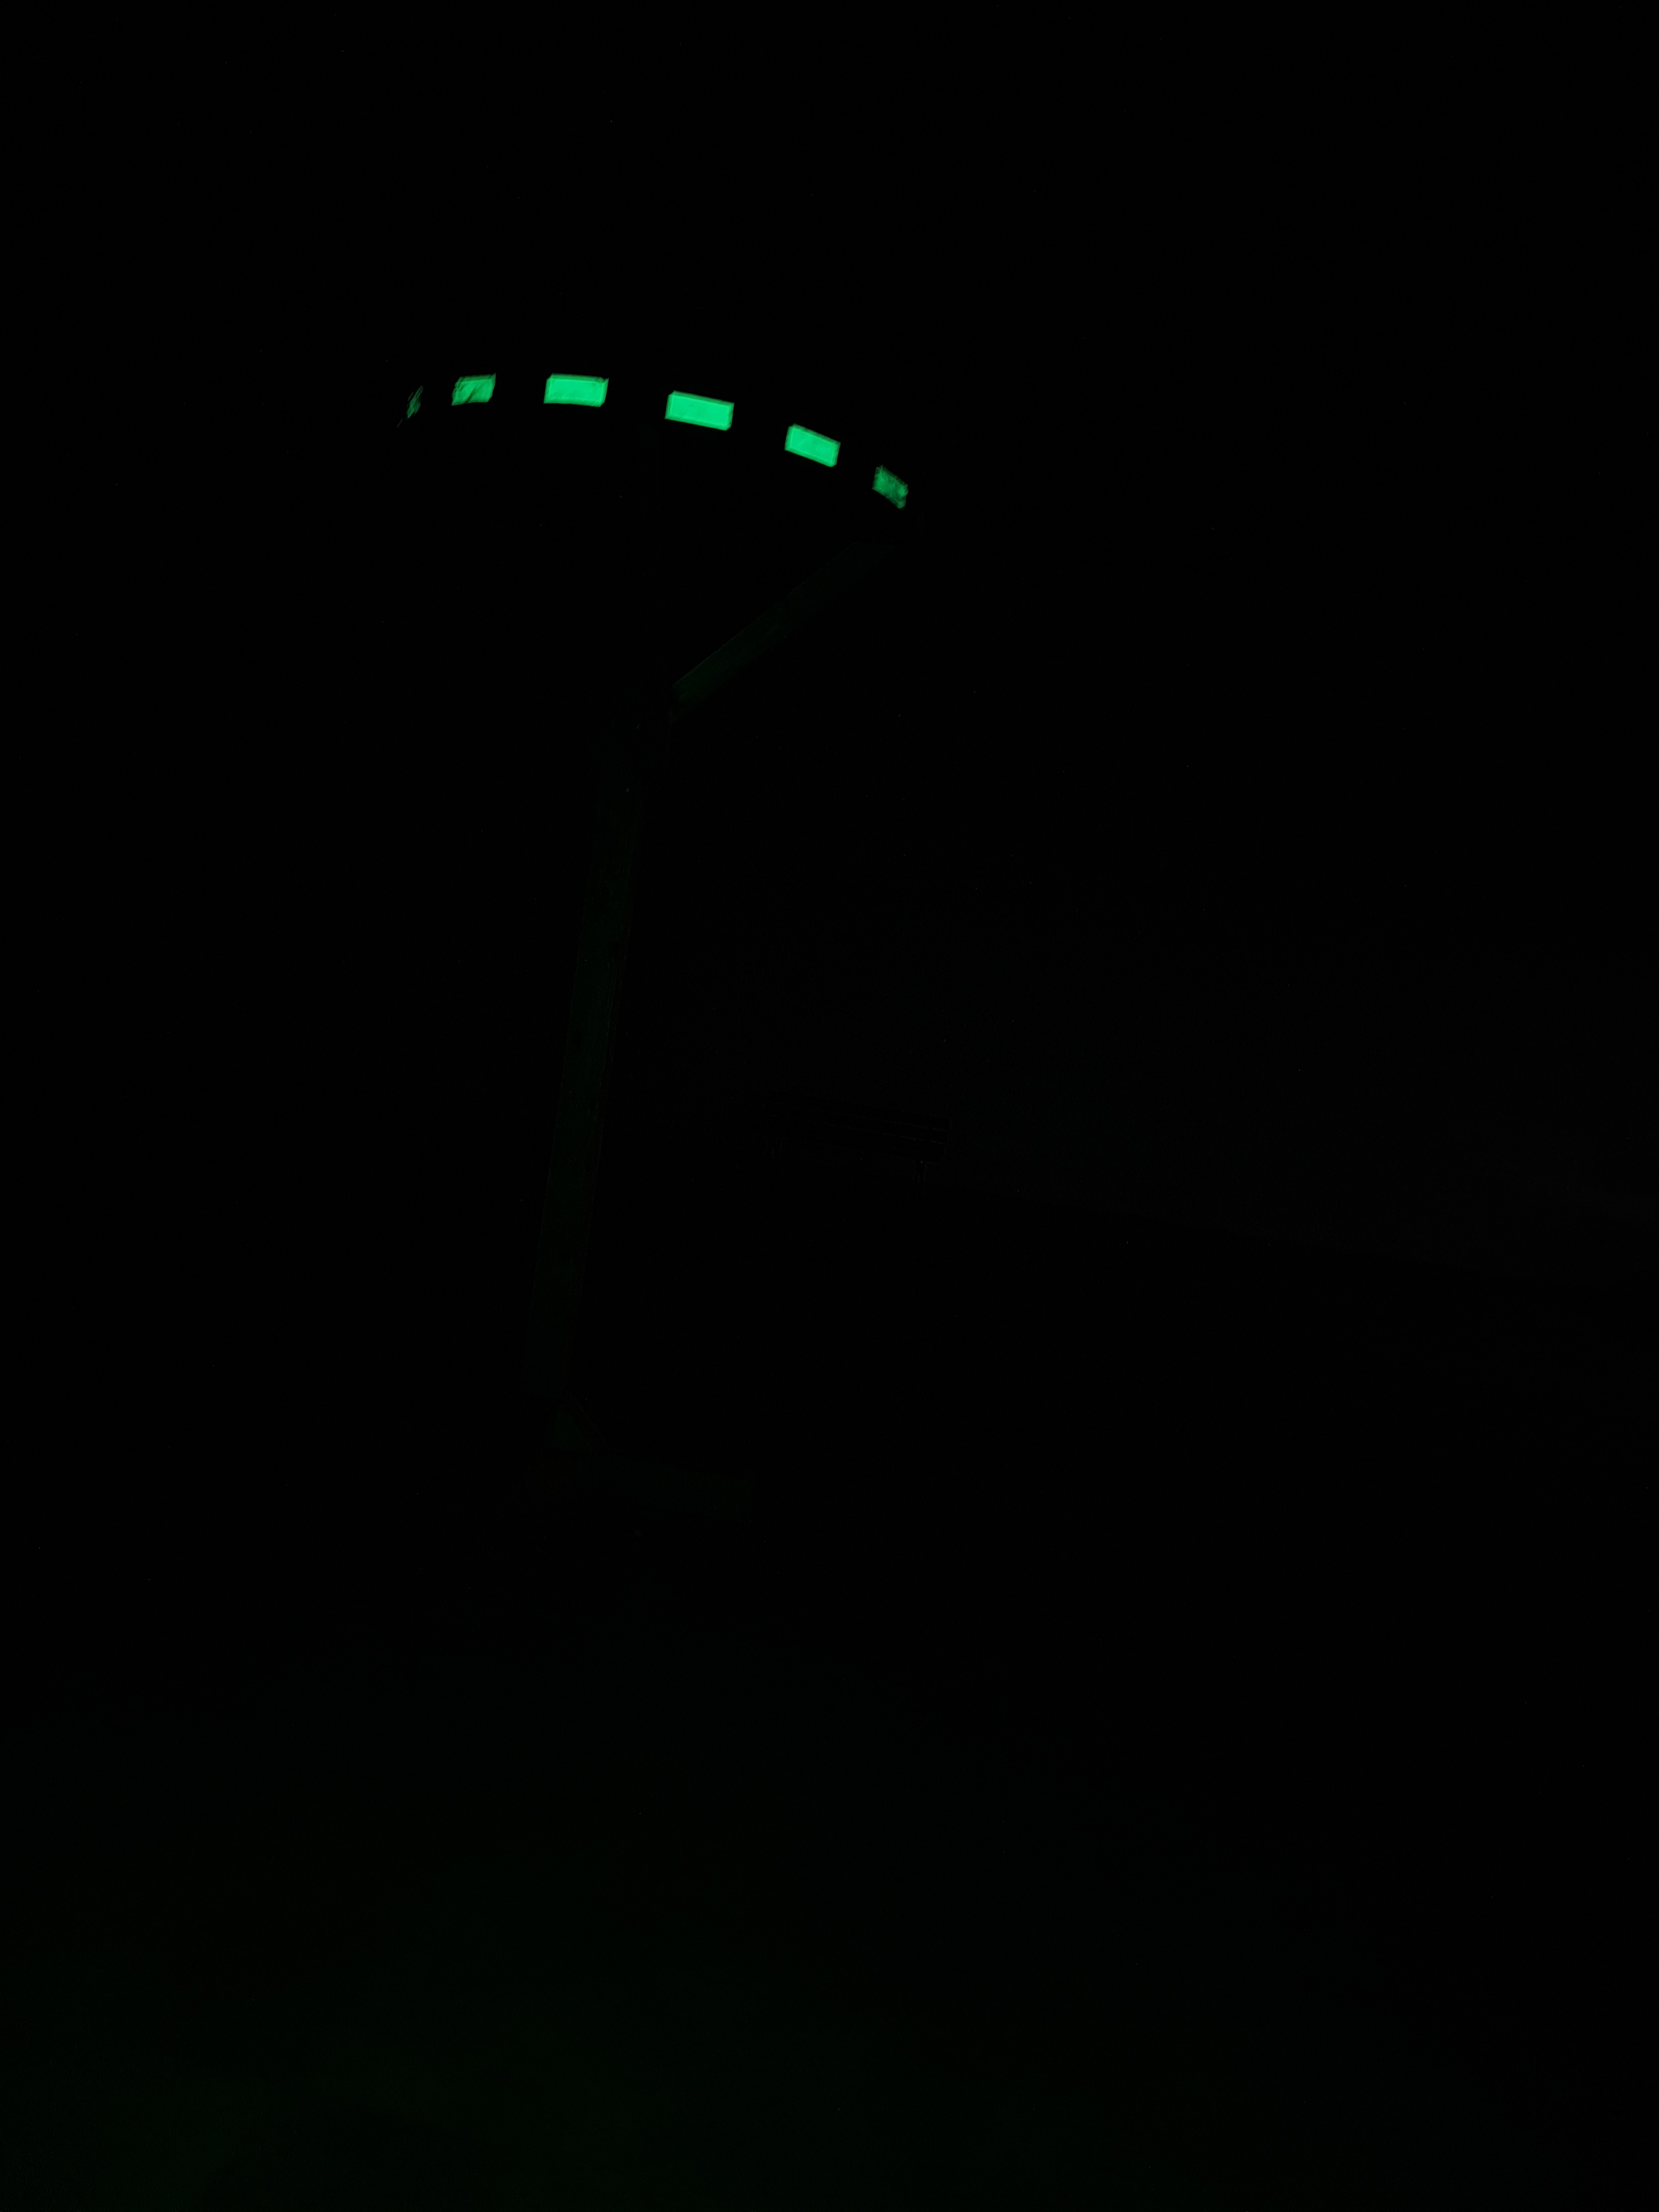hoop: (396, 352, 917, 514)
